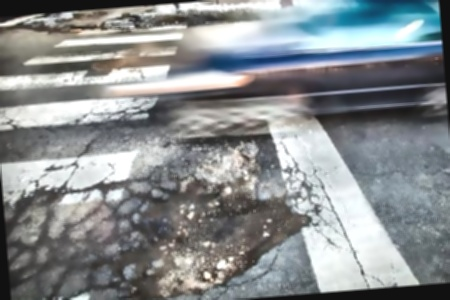pothole: (111, 171, 310, 300)
